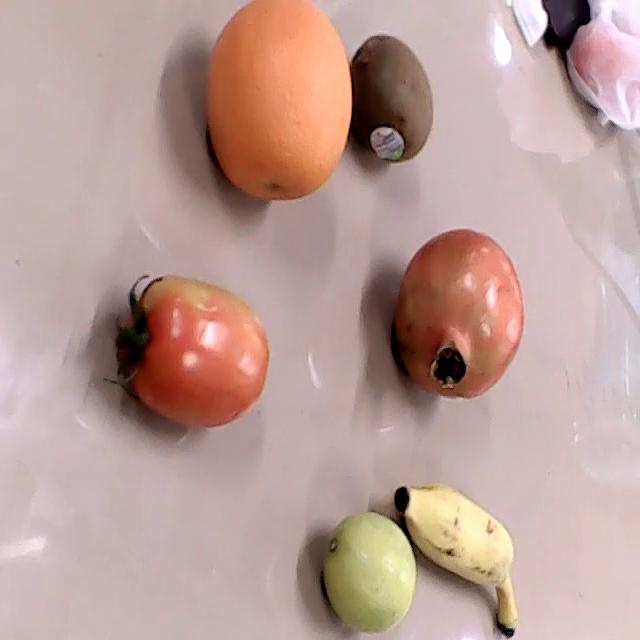kiwi: (348, 35, 433, 163)
lemon: (324, 511, 416, 631)
orange: (206, 0, 352, 201)
pomegranate: (396, 229, 525, 399)
tomato: (104, 274, 269, 429)
